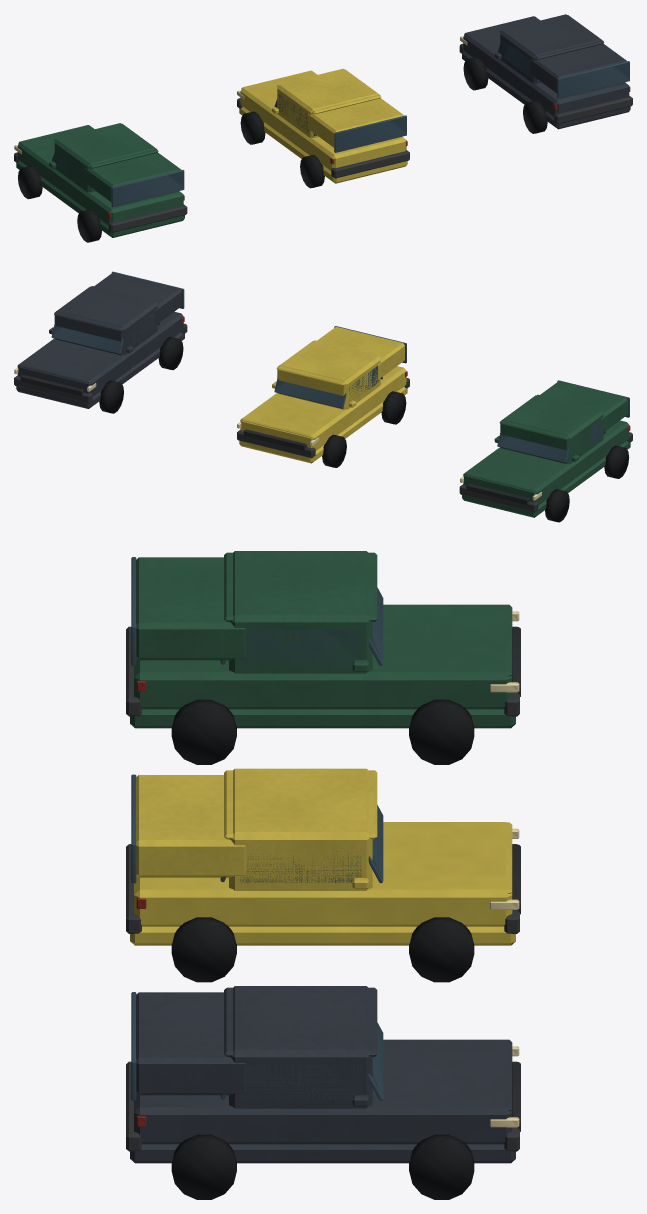
The model's file is parked_car_hatch.glb.
The picture shows the model from 3 angles, top to bottom: view 1: azimuth 30°, elevation 25°; view 2: azimuth 150°, elevation 25°; view 3: azimuth 270°, elevation 25°; orthographic projection. The views are drawn at different scales.
Visible parts, largest first — view 1: parked_car_hatch_v1, parked_car_hatch_v3, parked_car_hatch_v2; view 2: parked_car_hatch_v3, parked_car_hatch_v1, parked_car_hatch_v2; view 3: parked_car_hatch_v1, parked_car_hatch_v3, parked_car_hatch_v2.
Part boxes in pixels (<box>): parked_car_hatch_v1: <box>14,123,187,242</box>; parked_car_hatch_v3: <box>459,14,632,133</box>; parked_car_hatch_v2: <box>237,68,409,188</box>; parked_car_hatch_v3: <box>14,271,187,413</box>; parked_car_hatch_v1: <box>459,380,632,522</box>; parked_car_hatch_v2: <box>237,326,409,467</box>; parked_car_hatch_v1: <box>126,551,520,764</box>; parked_car_hatch_v3: <box>126,986,520,1199</box>; parked_car_hatch_v2: <box>126,768,520,982</box>.
Size of the model in its own units: 12.5 by 1.54 by 3.99.
Materials: 2 (2 with a texture image).
